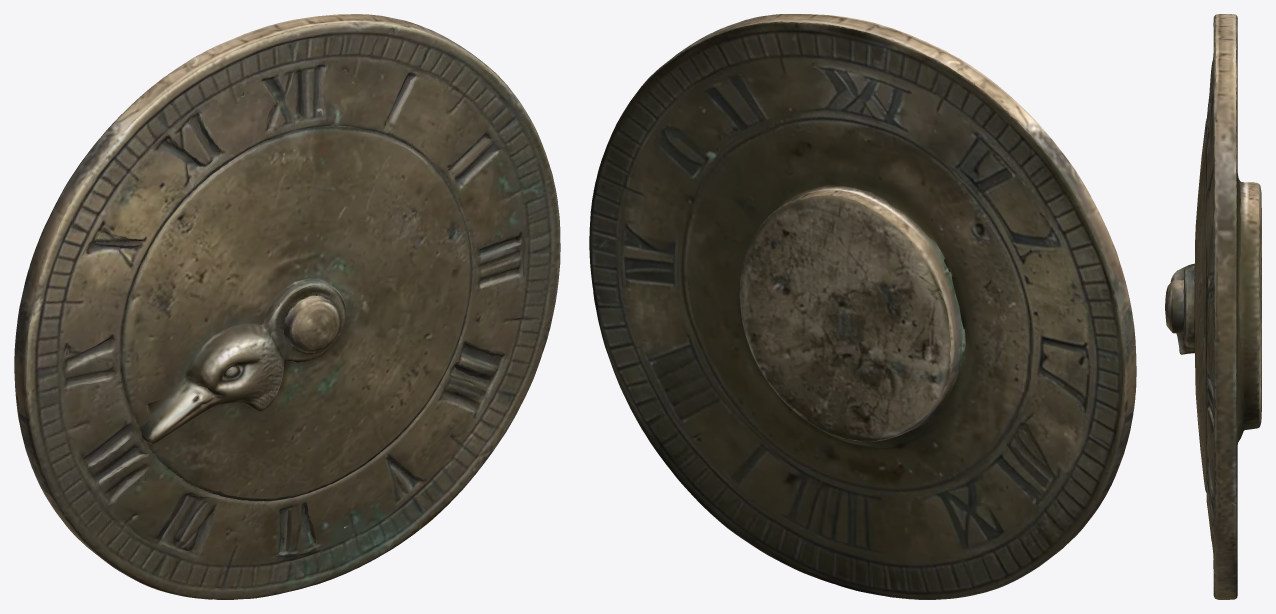
Rendered from obj_basement_dial_1.glb.
3 renders of one model, left to right at view 1: azimuth 30°, elevation 25°; view 2: azimuth 150°, elevation 25°; view 3: azimuth 270°, elevation 25°, orthographic. The views are drawn at different scales.
Visible parts, largest first — view 1: geometry_0; view 2: geometry_0; view 3: geometry_0.
Boxes of the visible parts, x1,y1,x2,y2 form: geometry_0: [14, 14, 560, 599]; geometry_0: [589, 14, 1136, 599]; geometry_0: [1165, 14, 1261, 599].
Bounding box in the file's own units: 0.2999 × 0.3 × 0.0501.
1 material, 1 textured.
